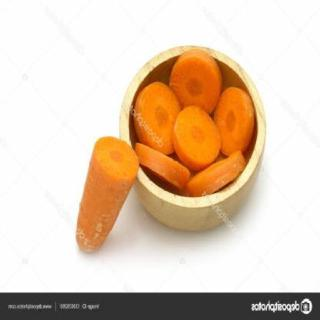carrot: (74, 134, 138, 254)
